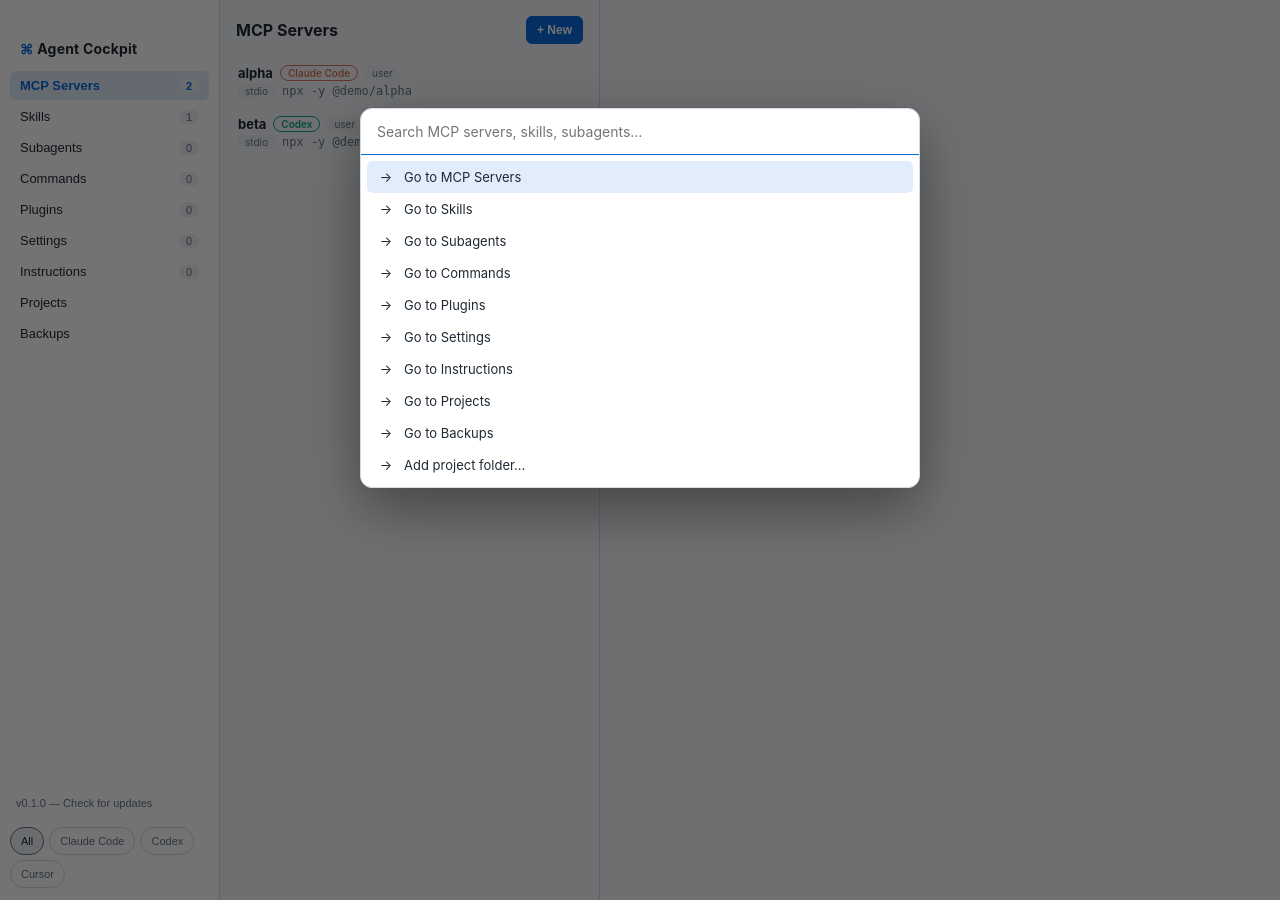
Test: CommandPalette › selects an entity in another section
Expected: the heading "MCP Servers" is shown, [236,20,338,40]
In the field with placeholder "Search MCP servers, skills, subagents…": (640, 132) [361,109,919,155], type "deploy"
Then press Enter
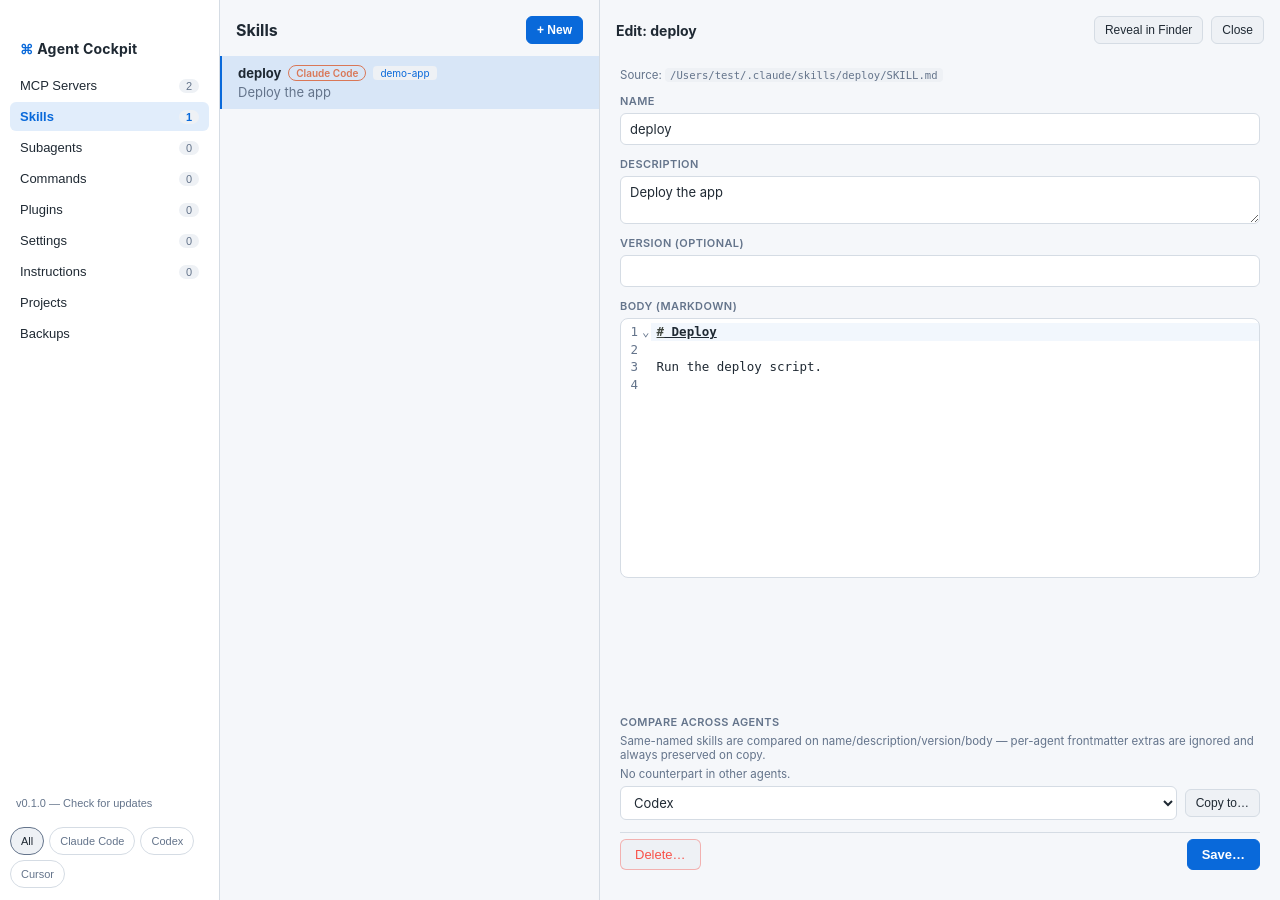
Expected: the heading "Skills" is shown, [236,20,278,40]
Expected: the heading "Edit: deploy" is shown, [616,22,697,38]
